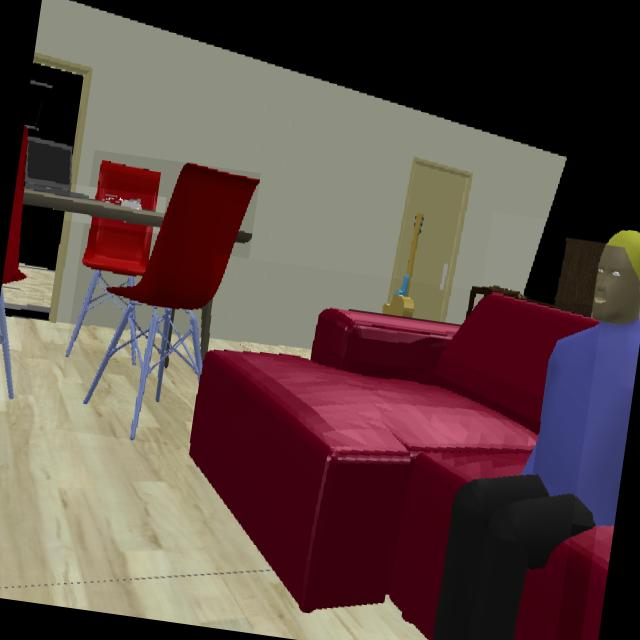chair: (65, 163, 259, 440), (0, 125, 29, 402)
laptop: (24, 107, 78, 193)
person: (434, 231, 640, 640)
sofa: (190, 293, 600, 640), (516, 528, 595, 640)
table: (23, 179, 163, 233)
